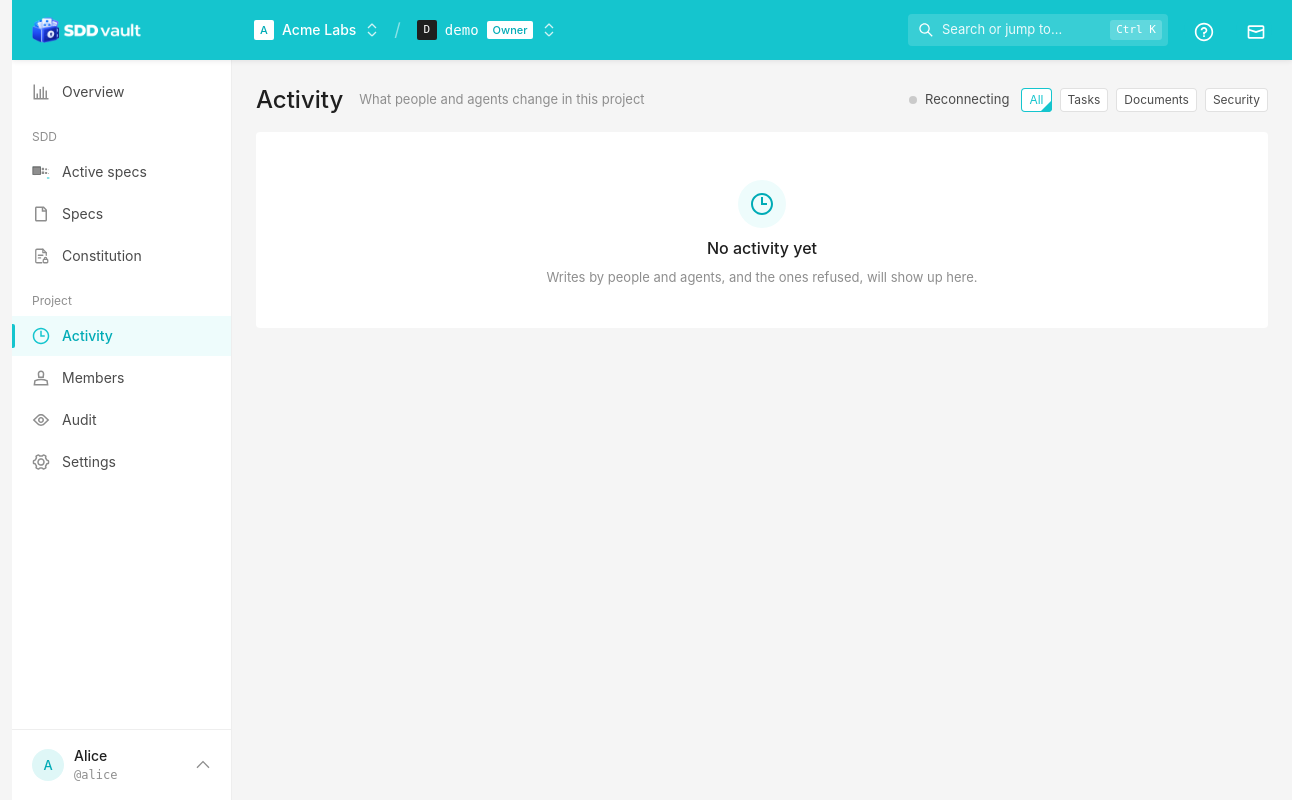
Scenario: the project switcher shows the active spec of the current project
The width and height of the screenshot is (1292, 800).
Expected: the heading "Activity" is shown, [256,84,343,116]
Click the button with aria-label "Project" at x=486, y=30, box [407,12,566,48]
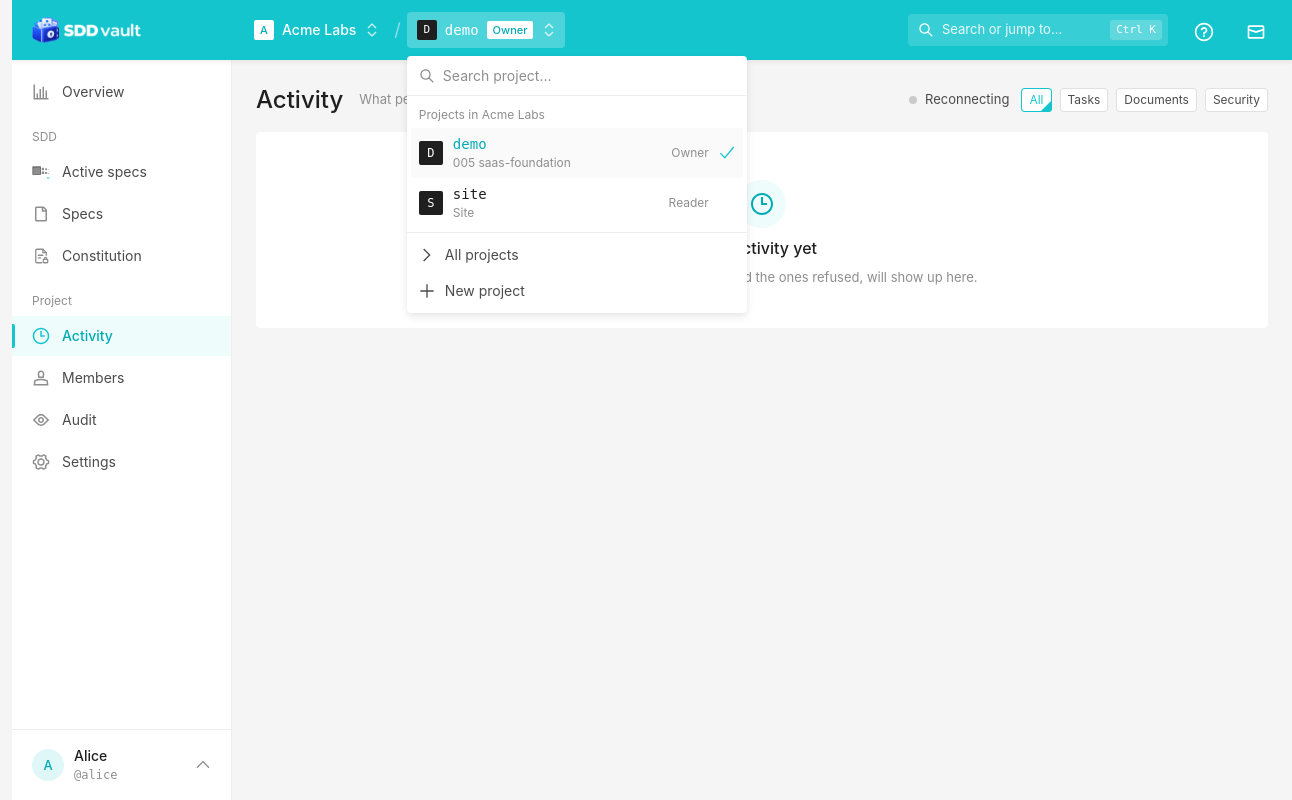
Now the option "D demo 005 saas-foundation Owner" is shown, box [411,128,743,178]
